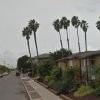Palm tree: (17, 10, 94, 52)
